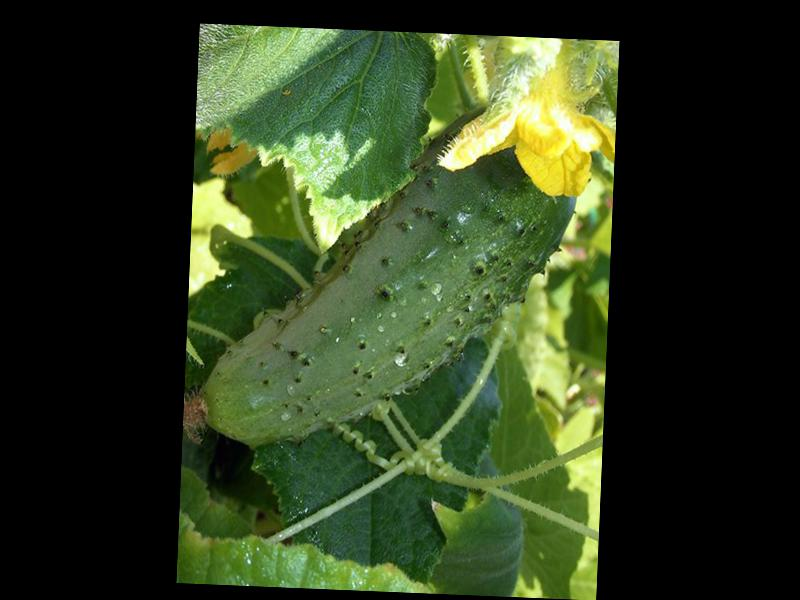Cucumber: (183, 94, 580, 459)
